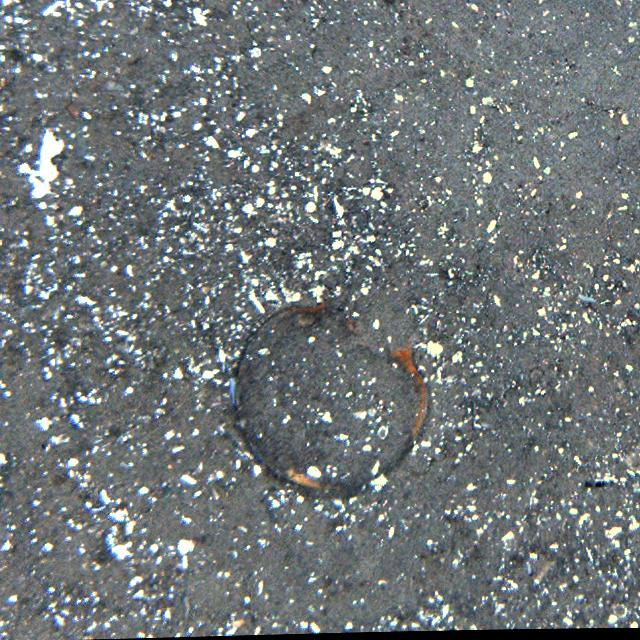scallop: (238, 304, 434, 502)
